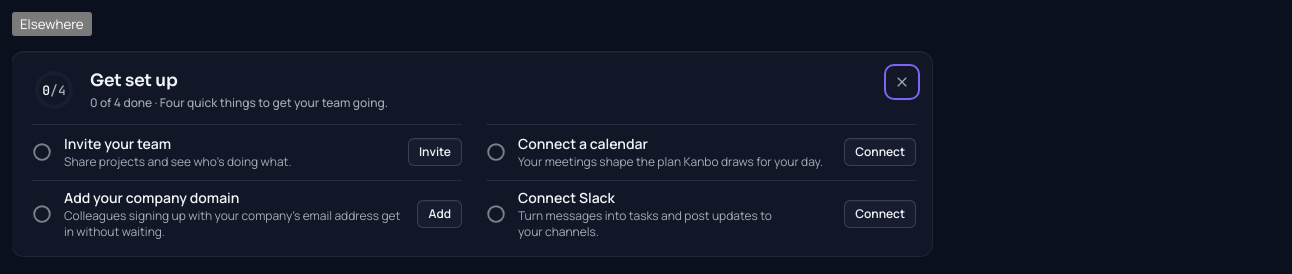
Scenario: Get set up, mounted the documented way (useShowSetupChecklist) › Dismiss: the card goes at once, and focus goes to the main content, not <body>
What coordinates should you click on to do the following:
click the button named "Dismiss “Get set up”"
I would click on:
 (902, 82)
Its box is [888,68,916,96].
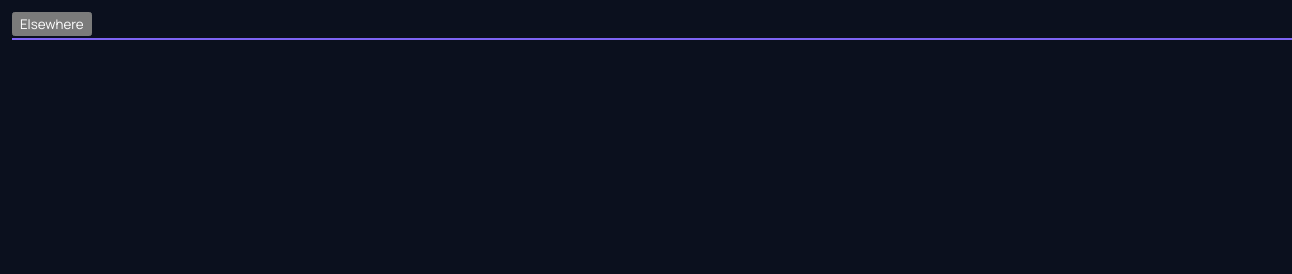
Expected: the heading "Get set up" is gone
